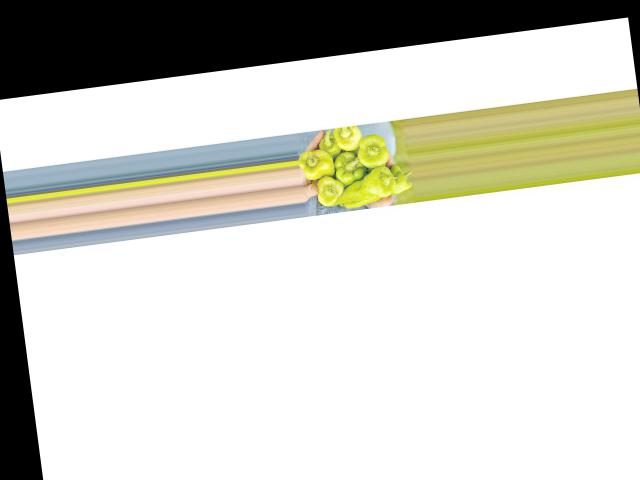bell_pepper: (298, 144, 337, 179)
